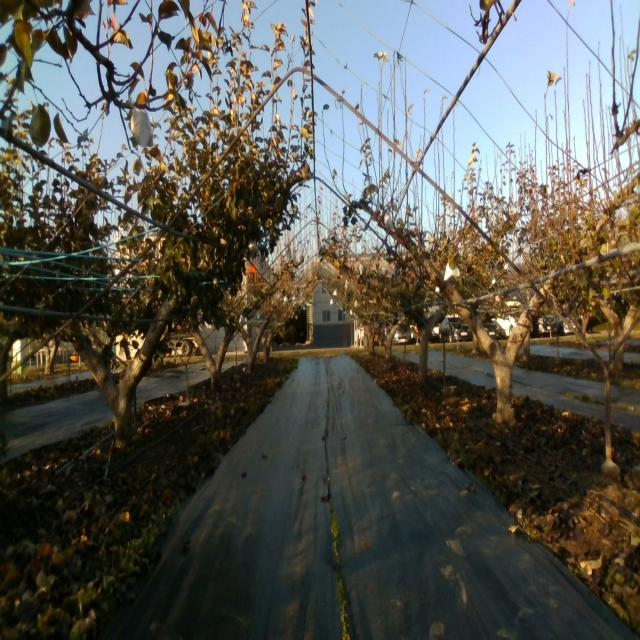pearbags: (129, 97, 154, 147), (444, 262, 460, 282), (384, 212, 396, 234), (248, 234, 259, 253)
